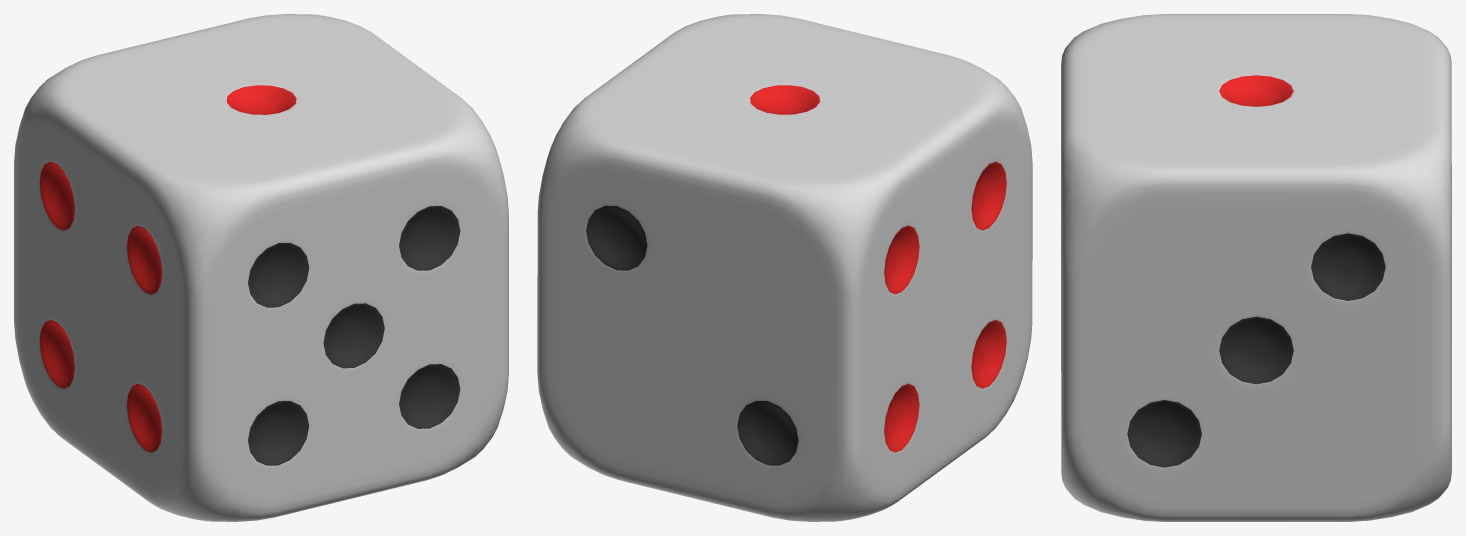
The model's file is dice2.glb.
The picture shows the model from 3 angles, left to right: view 1: azimuth 30°, elevation 25°; view 2: azimuth 150°, elevation 25°; view 3: azimuth 270°, elevation 25°; orthographic projection. The views are drawn at different scales.
Parts seen in each view (by area): view 1: 骰子2-材质, 骰子2-材质.1, 骰子2-材质.2; view 2: 骰子2-材质, 骰子2-材质.2, 骰子2-材质.1; view 3: 骰子2-材质, 骰子2-材质.1, 骰子2-材质.2.
Boxes of the visible parts, bbox=[...] form: 骰子2-材质: bbox=[14, 14, 508, 521]; 骰子2-材质.1: bbox=[248, 206, 460, 465]; 骰子2-材质.2: bbox=[39, 85, 296, 452]; 骰子2-材质: bbox=[537, 14, 1032, 521]; 骰子2-材质.2: bbox=[750, 85, 1006, 452]; 骰子2-材质.1: bbox=[586, 205, 798, 465]; 骰子2-材质: bbox=[1061, 14, 1451, 521]; 骰子2-材质.1: bbox=[1127, 233, 1385, 467]; 骰子2-材质.2: bbox=[1219, 75, 1293, 106].
Size of the model in its own units: 1.19 by 1.19 by 1.19.
